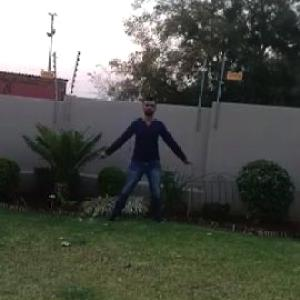land: (89, 91, 191, 227)
